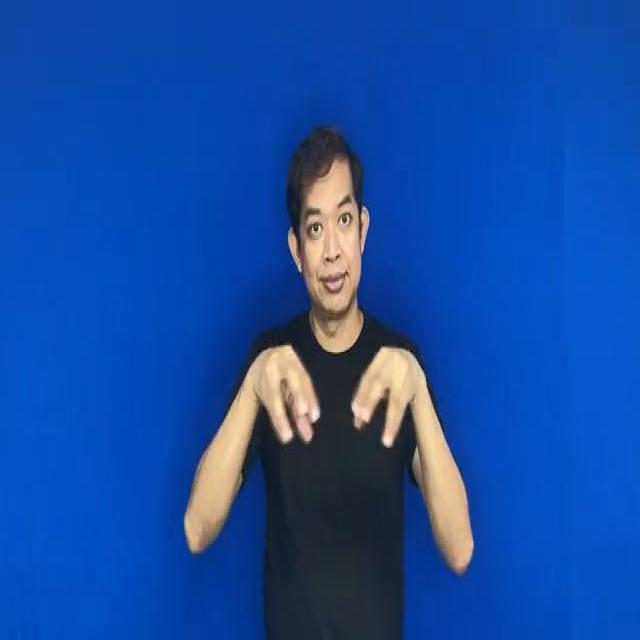egg: (240, 318, 430, 465)
